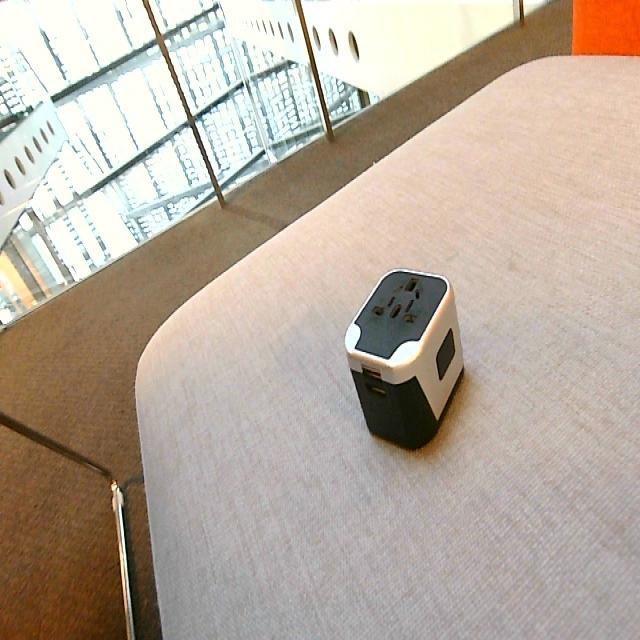adapter: (343, 266, 464, 450)
